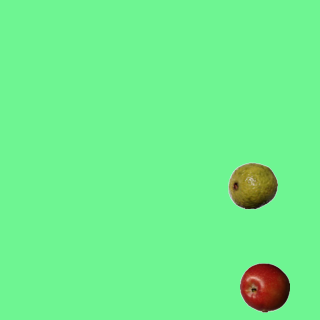Apple Braeburn: (239, 262, 289, 312)
Guava: (227, 160, 277, 210)
